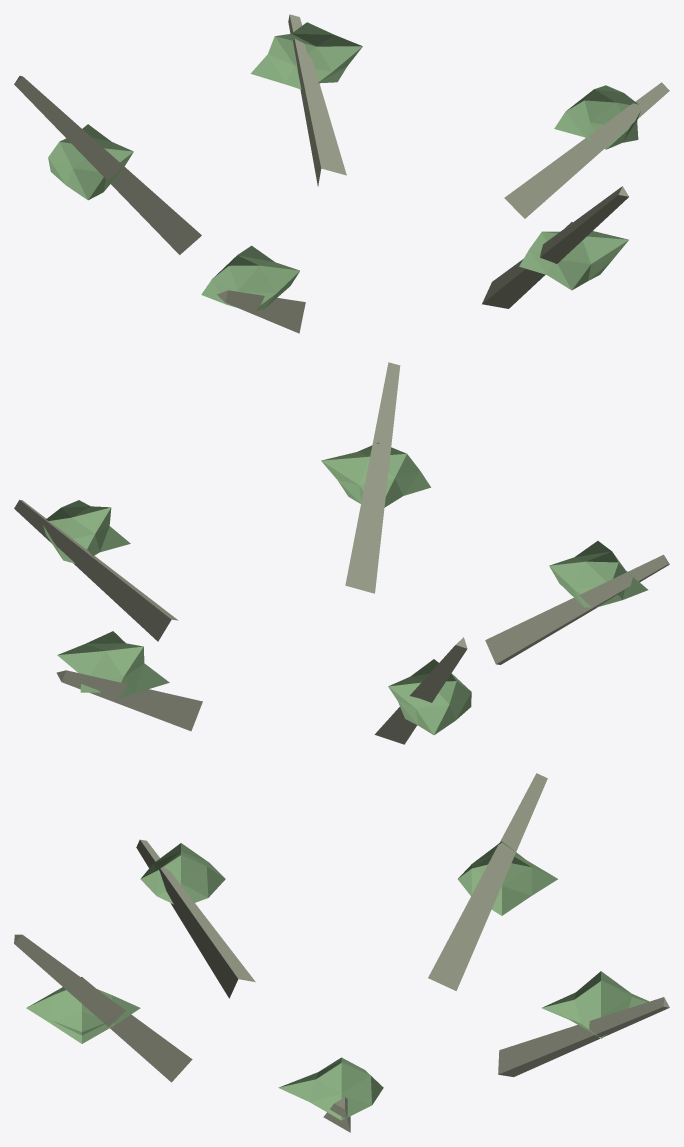
Rendered from bramble_v42.glb.
The picture shows the model from 3 angles, top to bottom: view 1: azimuth 30°, elevation 25°; view 2: azimuth 150°, elevation 25°; view 3: azimuth 270°, elevation 25°; orthographic projection. The views are drawn at different scales.
Parts seen in each view (by area): view 1: lod0; view 2: lod0; view 3: lod0.
Boxes of the visible parts, <box> form: lod0: <box>14,14,669,333</box>; lod0: <box>14,362,669,744</box>; lod0: <box>14,773,669,1132</box>.
Size of what is drawn, in the model's own units: 0.8587 by 0.2551 by 0.9.
